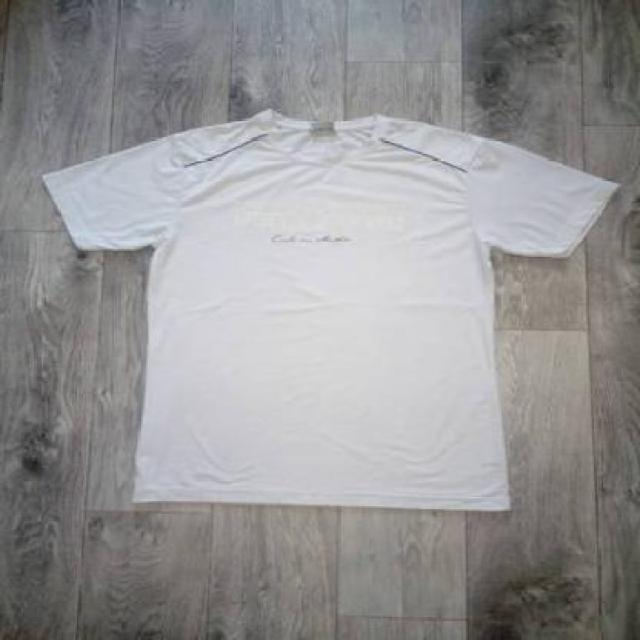shirt: (37, 108, 638, 530)
